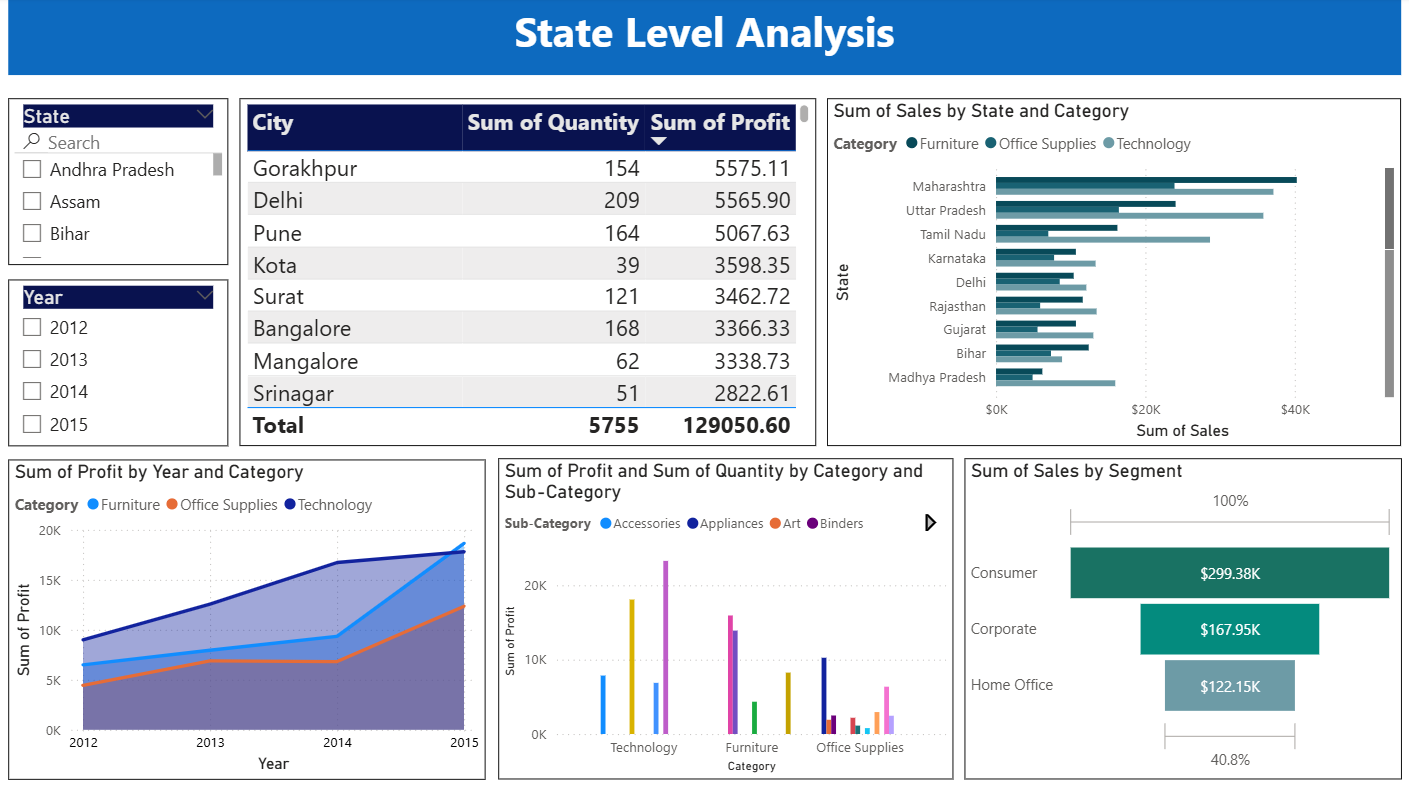

The dashboard page shown, as its layout file describes it:
{"tool":"powerbi","page":{"name":"State Level","canvas":[1280,720],"ordinal":1},"visuals":[{"type":"textbox","box":[10,0,1255.7,70],"z":0},{"type":"slicer","fields":{"Values":["Orders.State"]},"box":[10,91.4,198.6,150],"z":1000},{"type":"slicer","fields":{"Values":["Orders.Year"]},"box":[10,254.3,198.6,150],"z":2000},{"type":"tableEx","fields":{"Values":["Orders.City","Sum(Orders.Quantity)","Sum(Orders.Profit)"]},"box":[218.9,90.8,520,313.5],"z":3000},{"type":"clusteredBarChart","fields":{"Category":["Orders.State"],"Series":["Orders.Category"],"Y":["Sum(Orders.Sales)"]},"box":[748.9,90.8,517.5,313.5],"z":4000},{"type":"areaChart","fields":{"Category":["Orders.Year"],"Y":["Sum(Orders.Profit)"],"Series":["Orders.Category"]},"box":[10,416.7,430.4,288.6],"z":5000},{"type":"lineClusteredColumnComboChart","fields":{"Category":["Orders.Category"],"Series":["Orders.Sub-Category"],"Y":["Sum(Orders.Profit)"]},"box":[451.6,415.5,410.5,289.8],"z":6000},{"type":"funnel","fields":{"Category":["Orders.Segment"],"Y":["Sum(Orders.Sales)"]},"box":[872,415.5,394.3,289.8],"z":7000}]}

Visuals, with their boxes in screenshot pixels (x1, y1, x2, y2), scaled from the page's 1280x720 canvas onto the 1409x788 screenshot:
textbox: 11 0 1393 77
slicer - Orders.State: 11 100 230 264
slicer - Orders.Year: 11 278 230 442
tableEx - Orders.City x Sum(Orders.Quantity): 241 99 813 442
clusteredBarChart - Orders.State x Orders.Category: 824 99 1394 442
areaChart - Orders.Year x Sum(Orders.Profit): 11 456 485 772
lineClusteredColumnComboChart - Orders.Category x Orders.Sub-Category: 497 455 949 772
funnel - Orders.Segment x Sum(Orders.Sales): 960 455 1394 772
